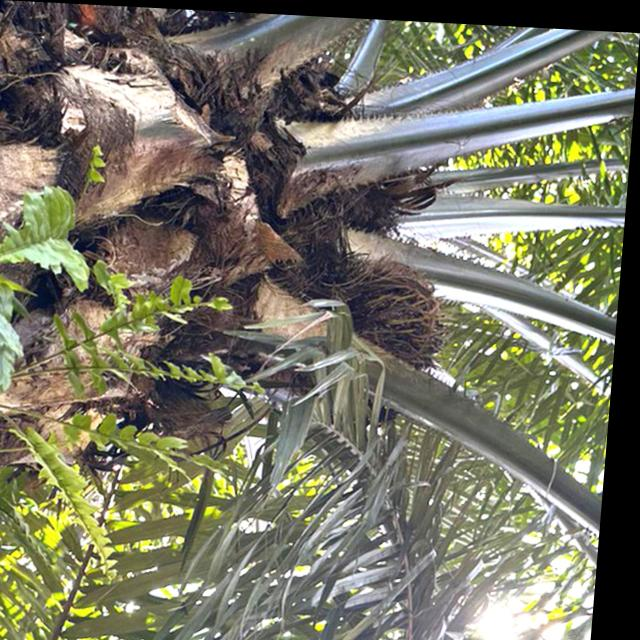unripe: (344, 249, 464, 372)
